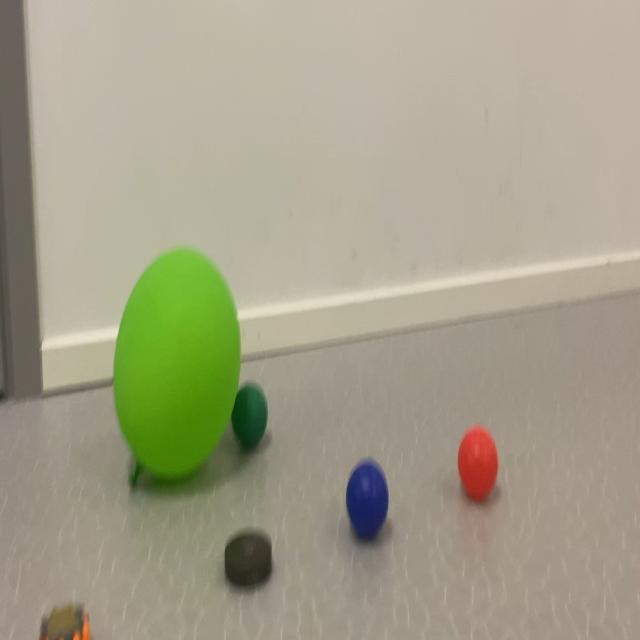blue ball: (339, 462, 397, 534)
green ball: (241, 381, 271, 453)
red ball: (452, 430, 506, 511)
